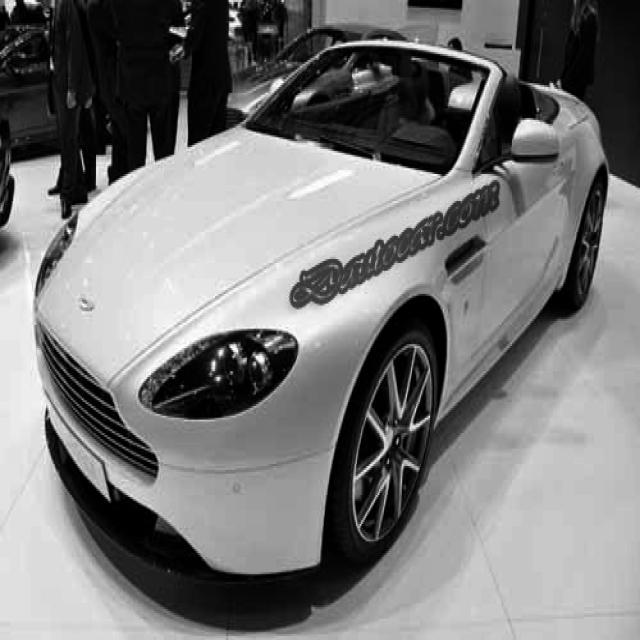car: (32, 33, 609, 584)
